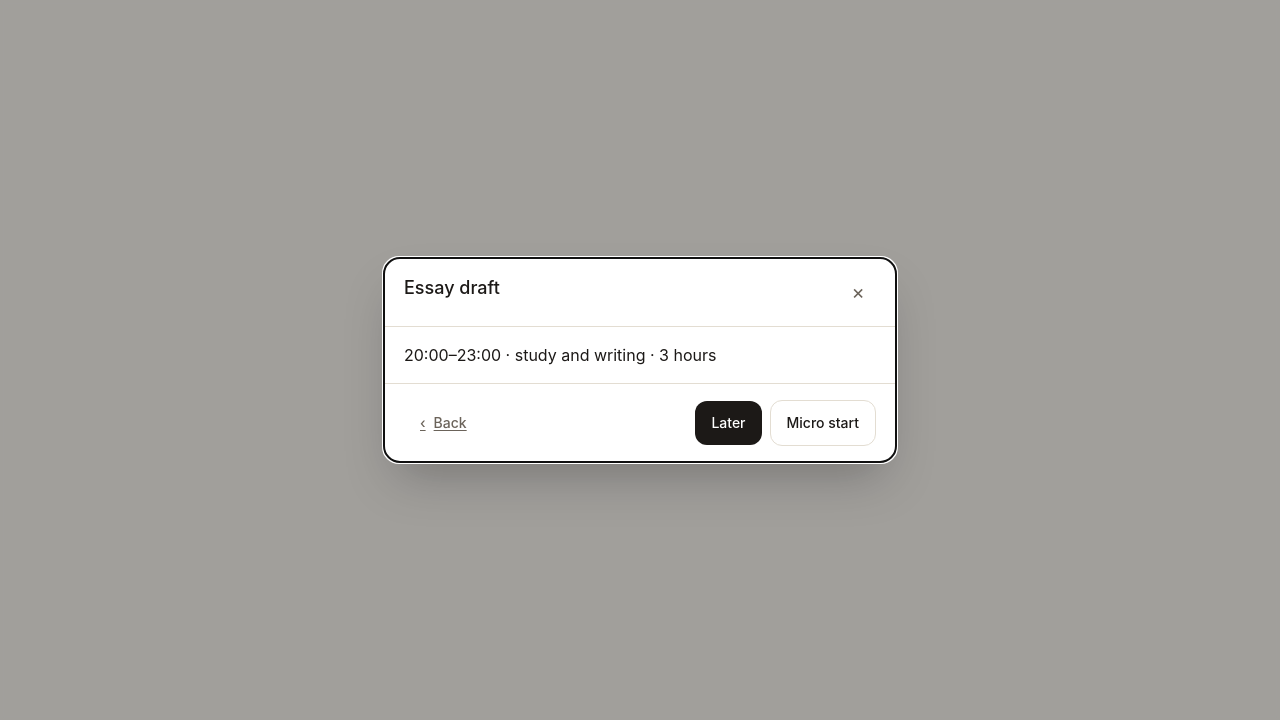
what the line under the title says › the Later proposal › goes back to the block from the proposal
Step 1. Click the button "Later" → (728, 423), box 695,401 -> 762,445
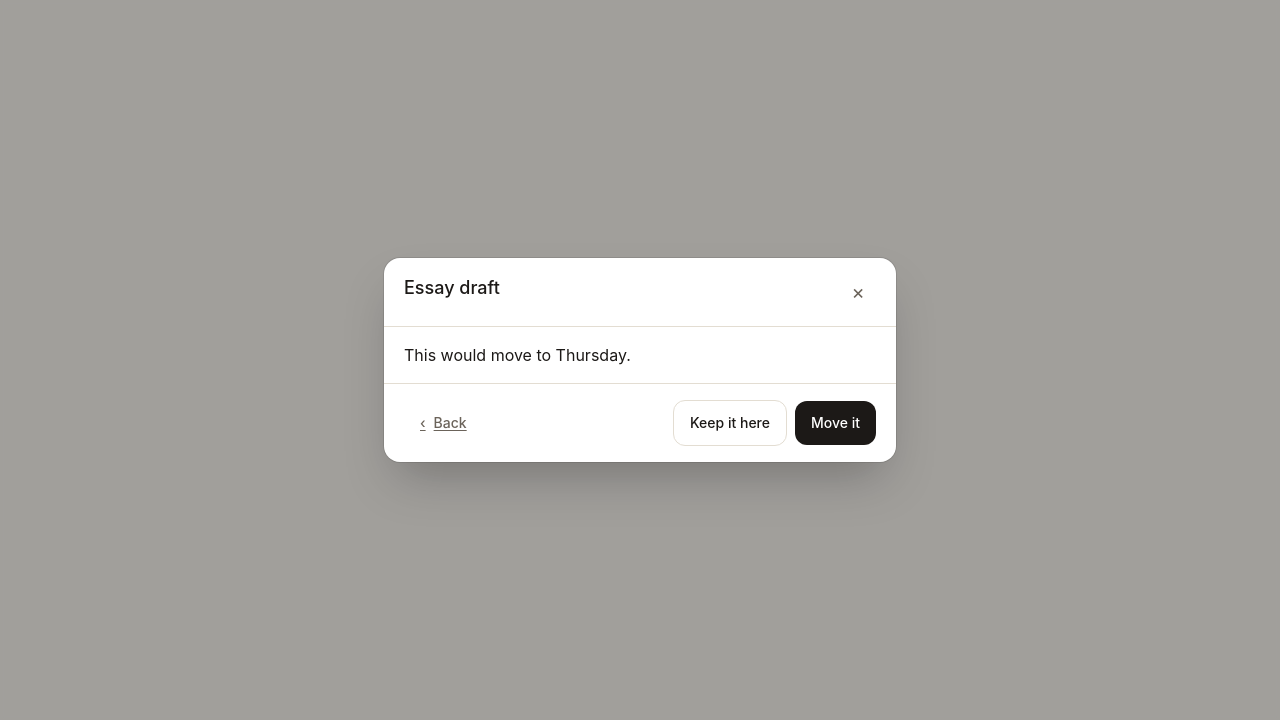
Step 2. Click the button "‹ Back" → (443, 423), box 404,401 -> 483,445
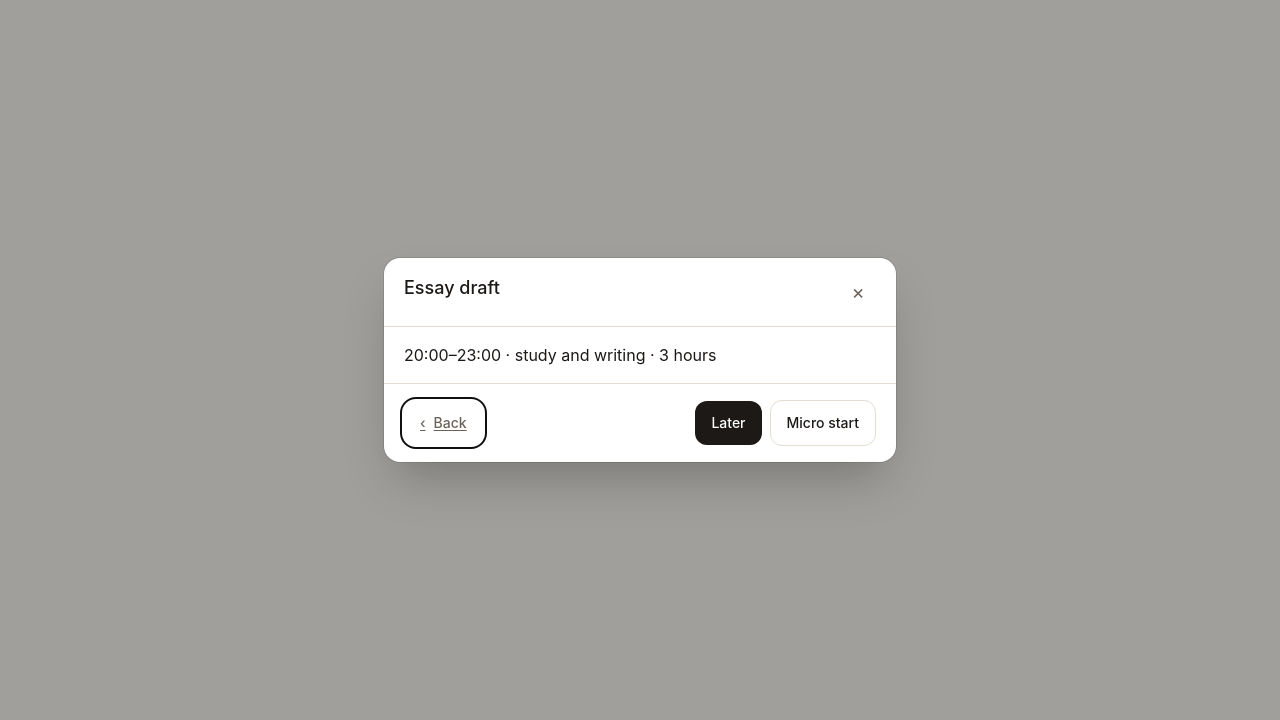
expect the button "Later" is shown: met, box 695,401 -> 762,445
